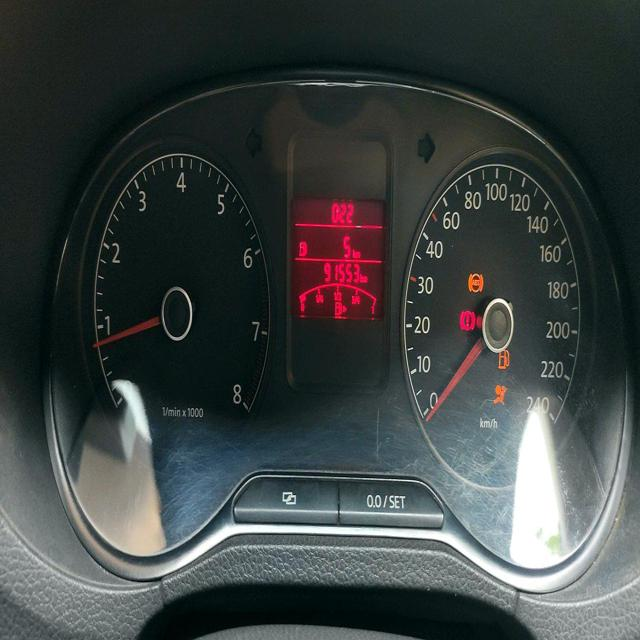odometer: (321, 259, 361, 286)
